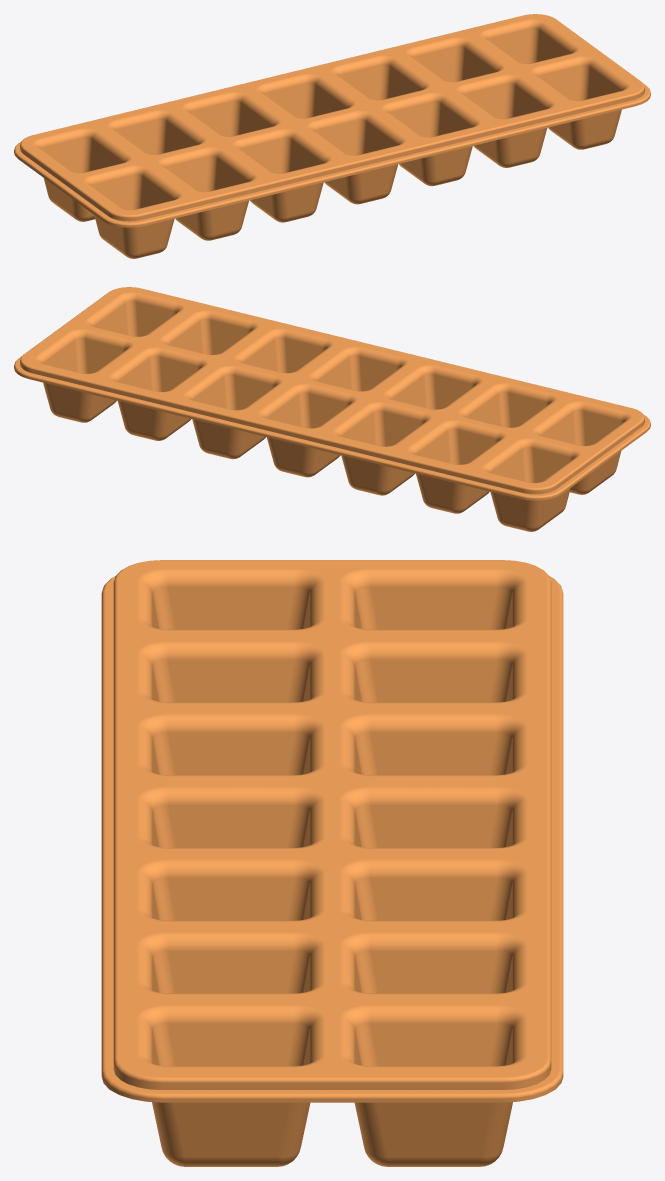
File: ice-tray.glb
3 views of the same model, one above another, from view 1: azimuth 30°, elevation 25°; view 2: azimuth 150°, elevation 25°; view 3: azimuth 270°, elevation 25° (orthographic). The views are drawn at different scales.
Parts seen in each view (by area): view 1: g Body1; view 2: g Body1; view 3: g Body1.
Boxes of the visible parts, x1,y1,x2,y2 form: g Body1: [14, 14, 650, 258]; g Body1: [14, 287, 650, 531]; g Body1: [101, 560, 563, 1166].
Bounding box in the file's own units: 31 × 3.2 × 11.4.
